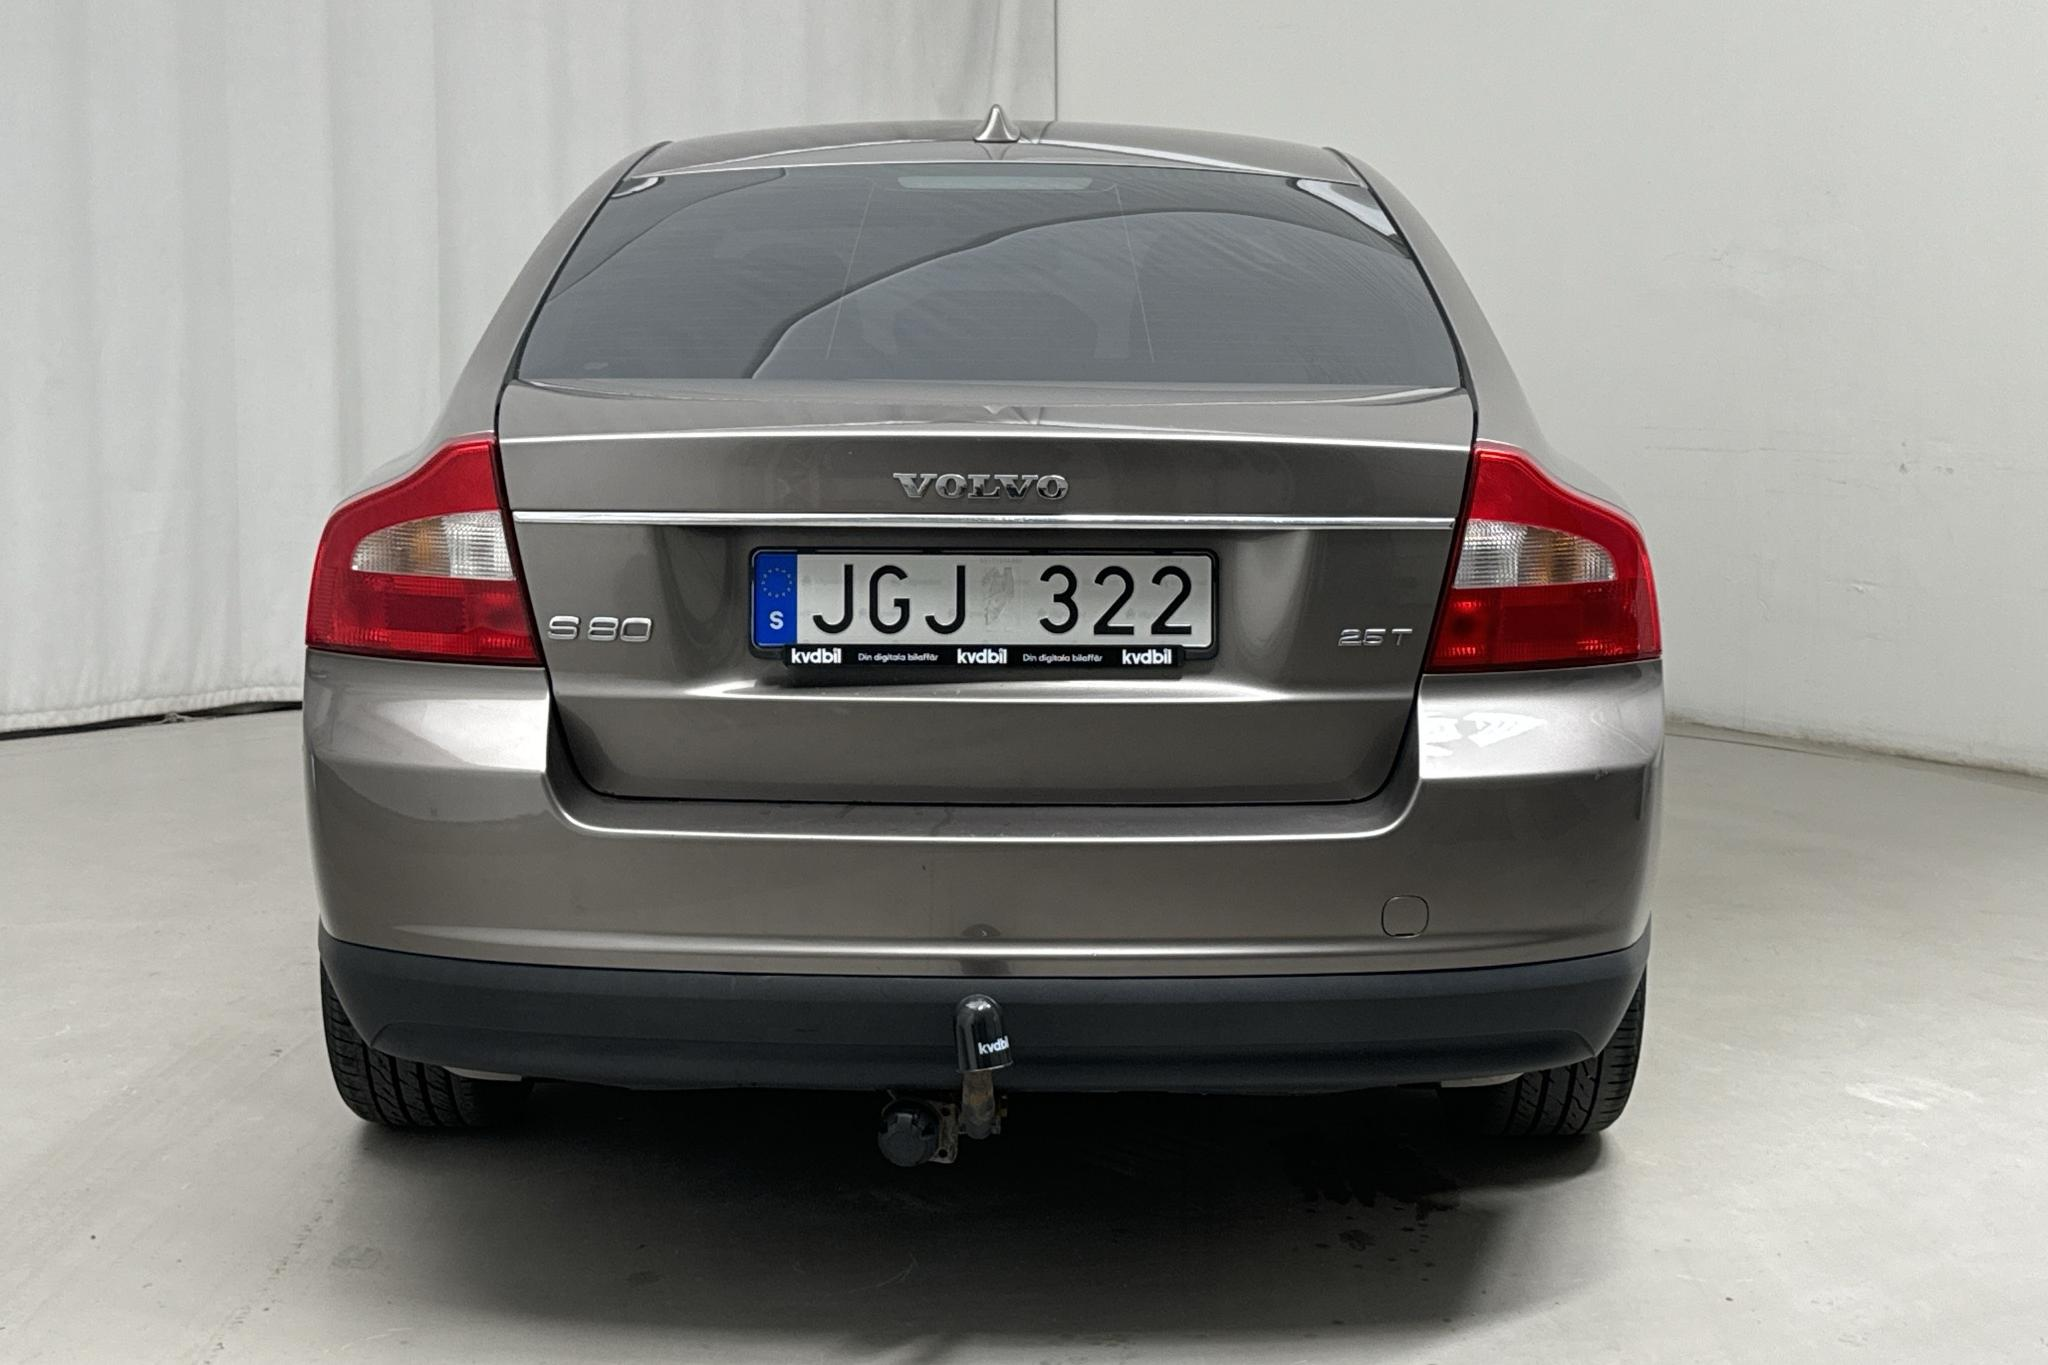car: (260, 91, 1673, 1168)
